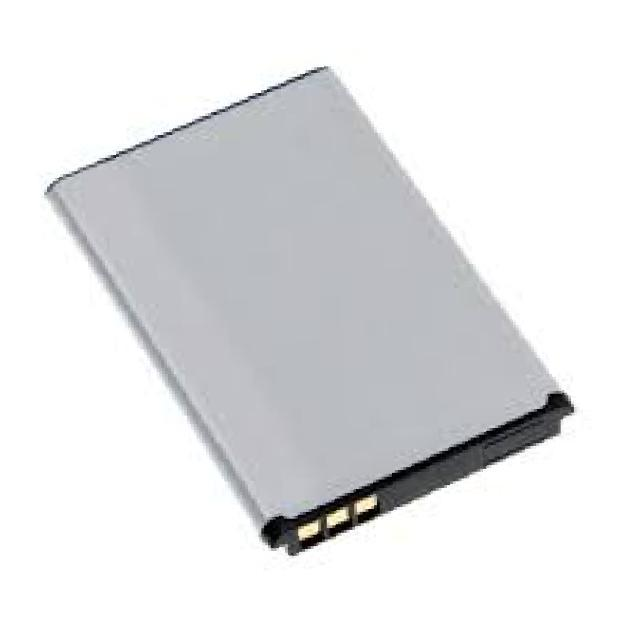Battery: (49, 47, 640, 627)
